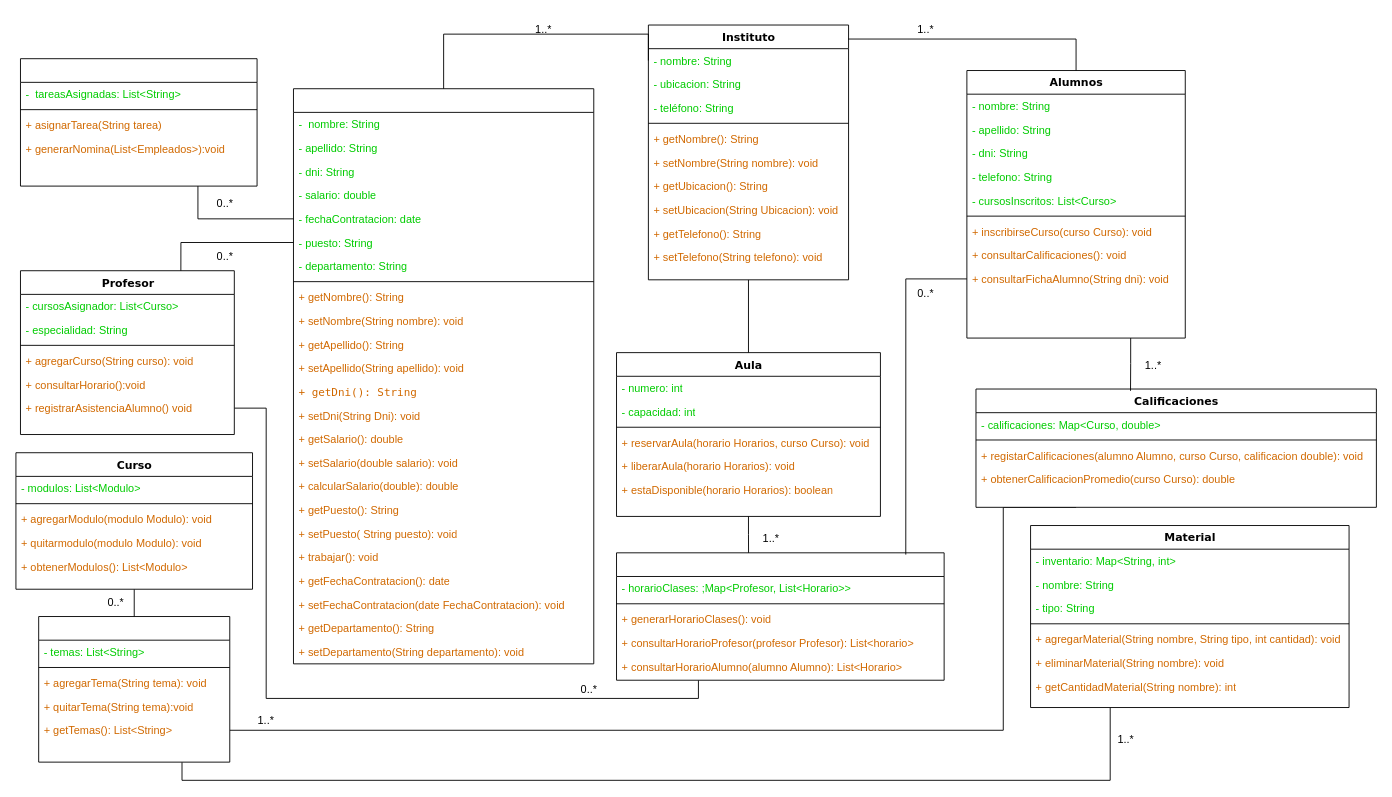
The diagram is 1392 pixels wide and 797 high, and some of its shapes have lost their labels. The box of each missing label's shape, as (x1, y1, x2, y2) in pixels:
Empleados: (293, 88, 594, 664)
Horarios: (616, 552, 944, 680)
Módulo: (38, 616, 230, 762)
PersonalAdministrativo: (20, 58, 257, 186)
